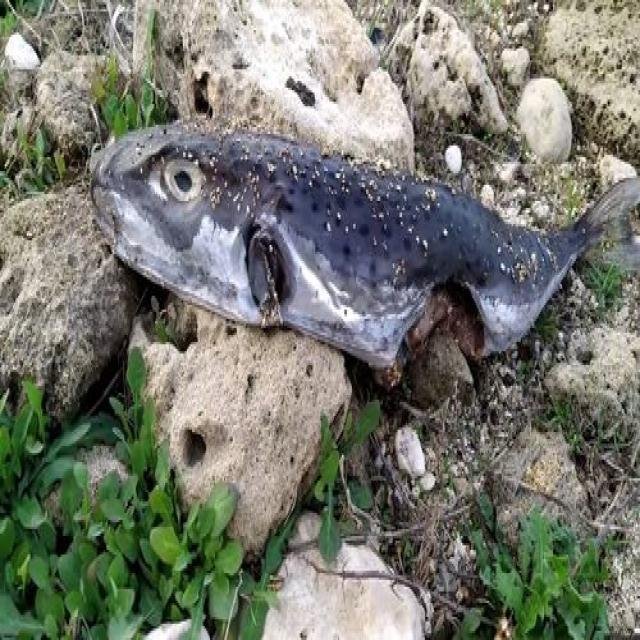Balik: (91, 125, 639, 369)
